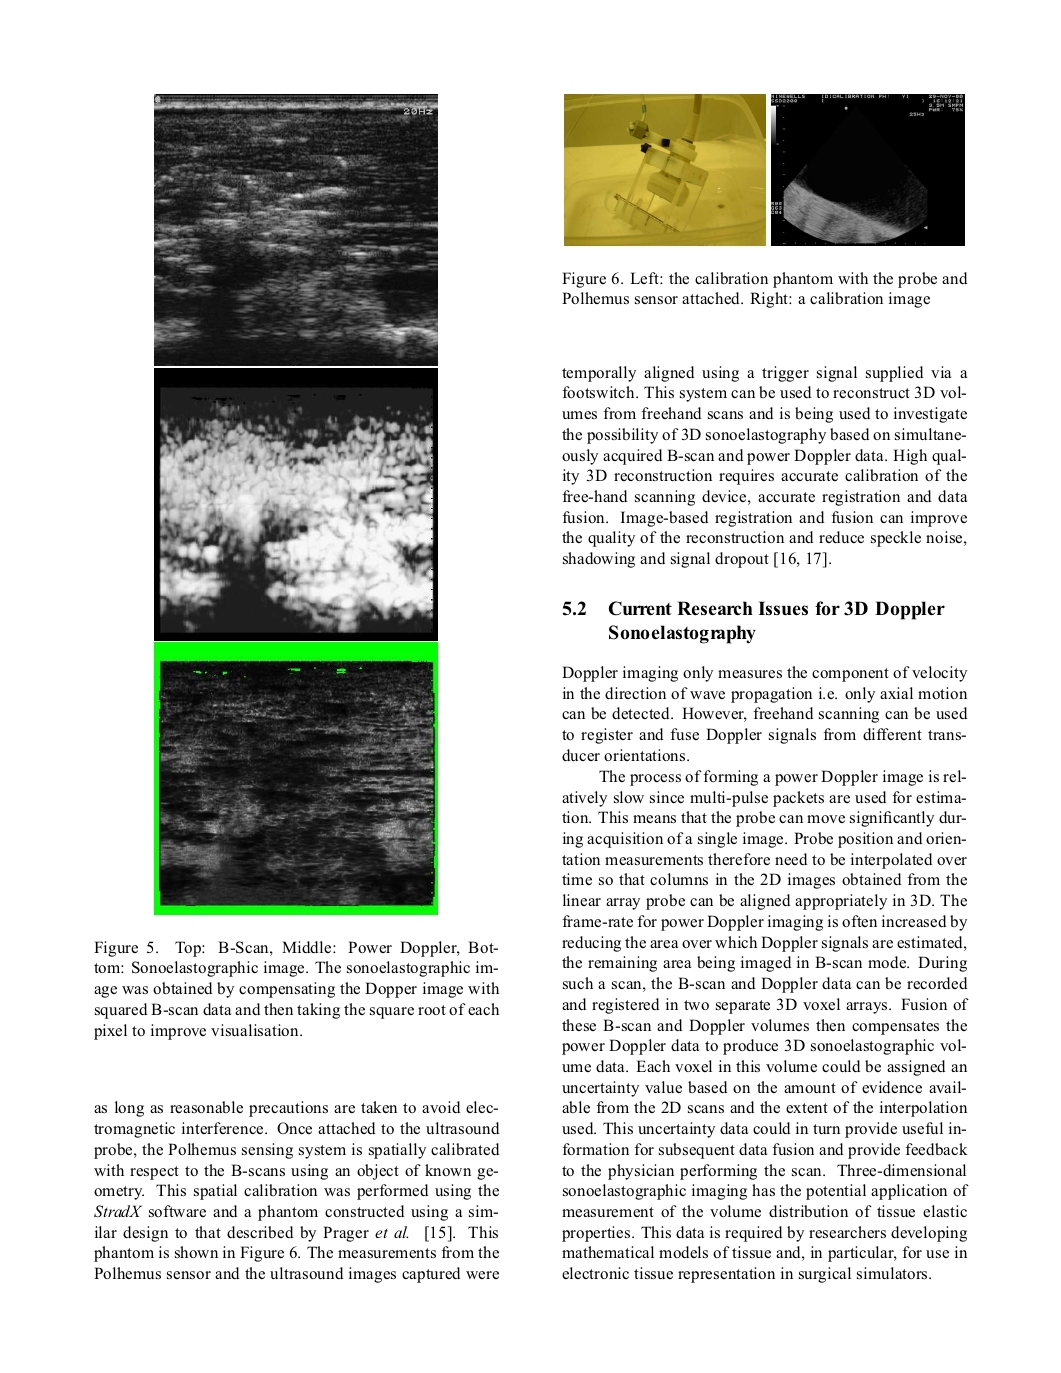figure: (153, 368, 438, 643), (154, 94, 437, 368), (153, 646, 438, 915), (564, 94, 765, 245), (771, 94, 964, 245)
